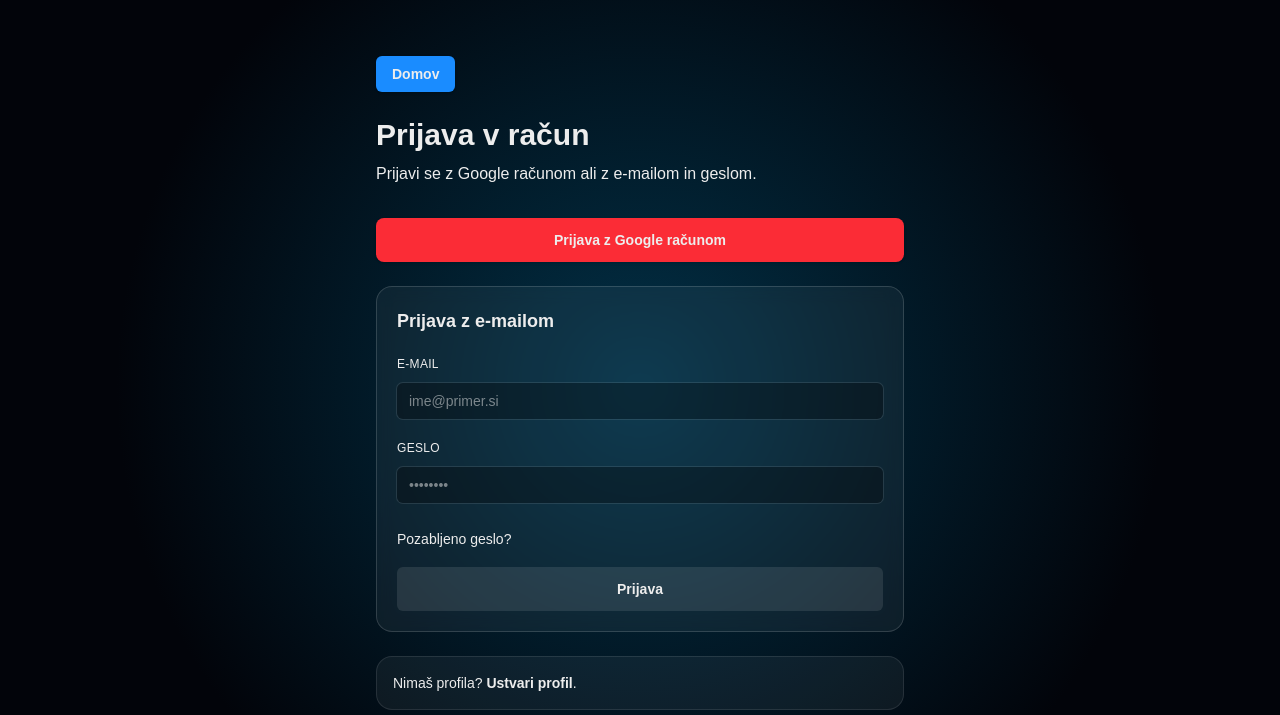
Login Page › prikaže slovensko sporočilo za napačen e-mail ali geslo
In the field with placeholder "ime@primer.si": (640, 401) top-left (397, 383), bottom-right (883, 419), type "test@example.com"
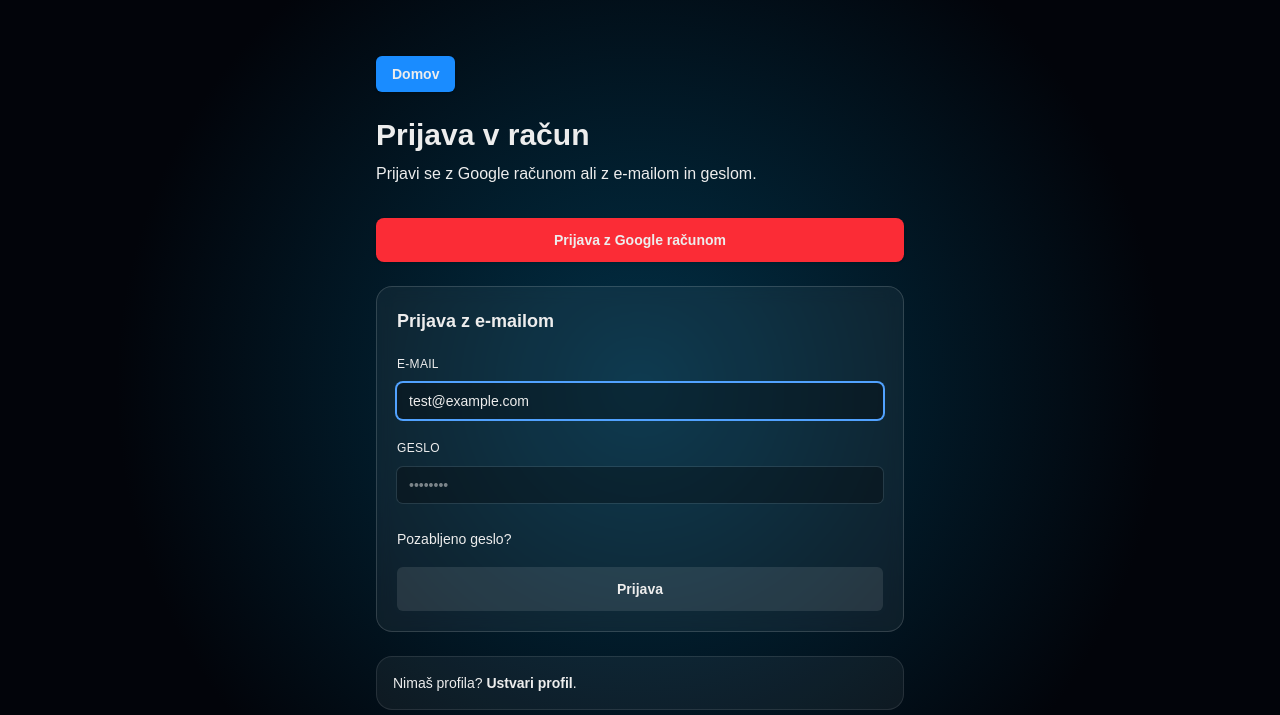
In the password field with placeholder "••••••••": (640, 485) top-left (397, 467), bottom-right (883, 503), type "wrongpassword"
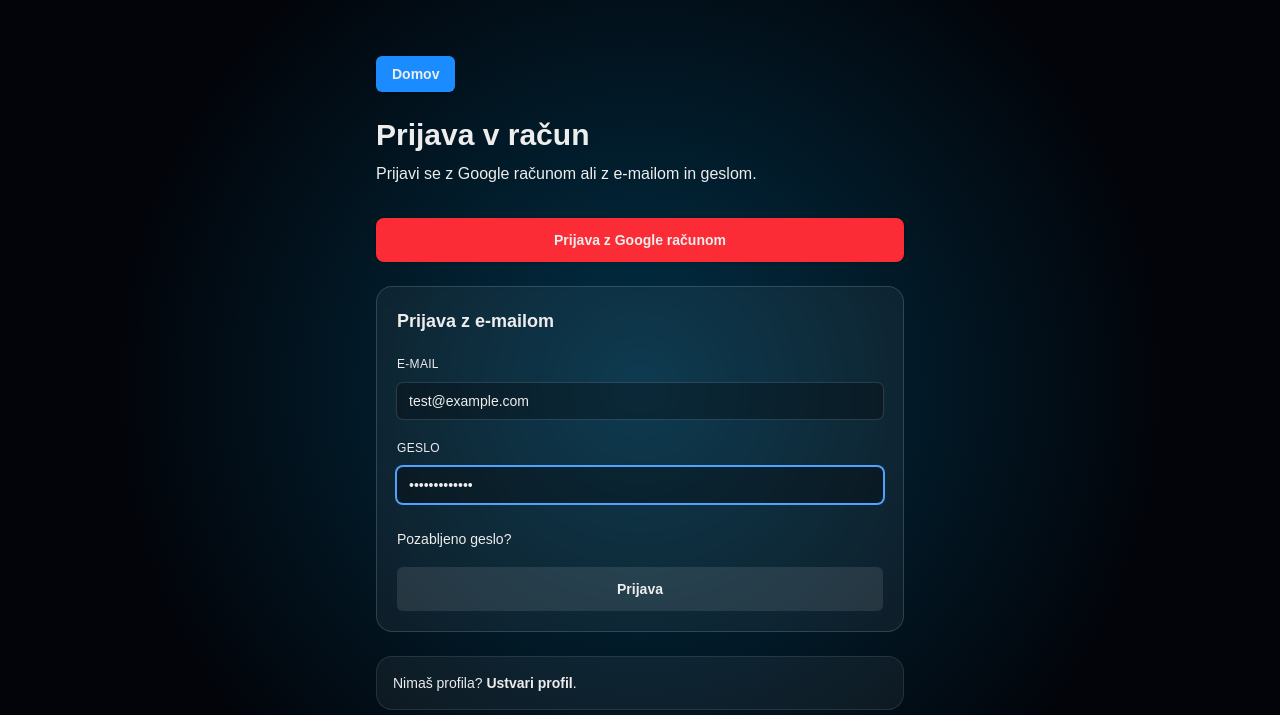
Submit the form, box top-left (397, 351), bottom-right (883, 611)
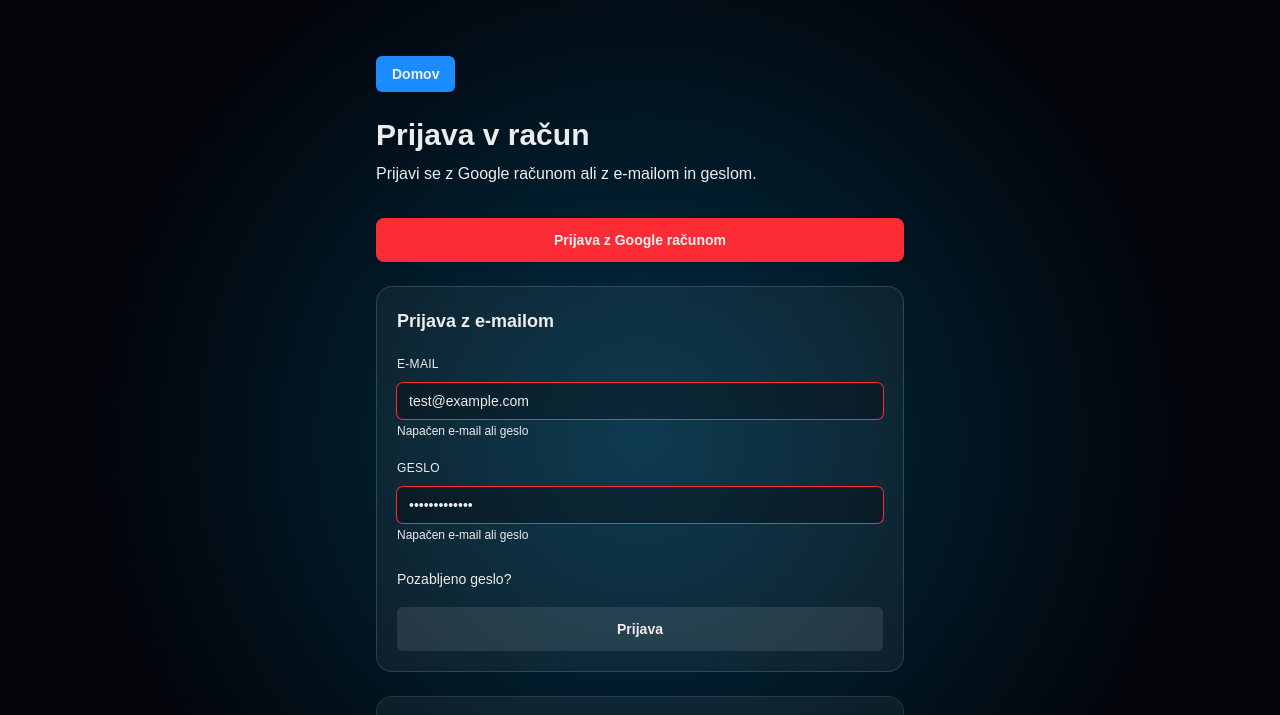
expect the 1st text "Napačen e-mail ali geslo" is shown: met, box top-left (397, 424), bottom-right (528, 438)
